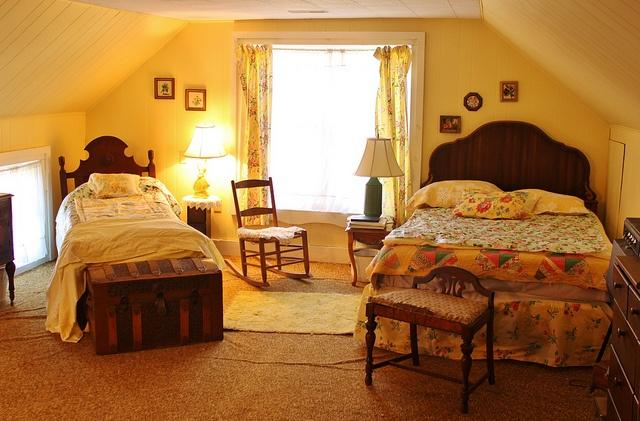Kursi: (230, 176, 310, 280)
